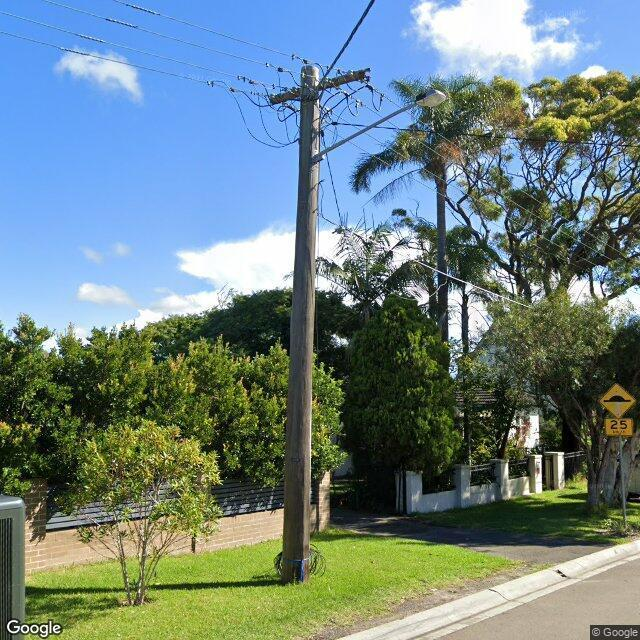crossarm: (269, 68, 372, 106)
streetlight: (314, 89, 446, 162)
timber-pole: (280, 65, 321, 587)
